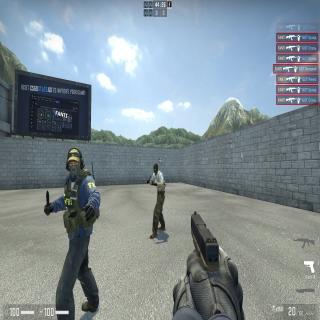CT-Body: (64, 148, 93, 298), (152, 163, 165, 237)
CT-Head: (68, 148, 80, 178), (154, 163, 158, 174)
